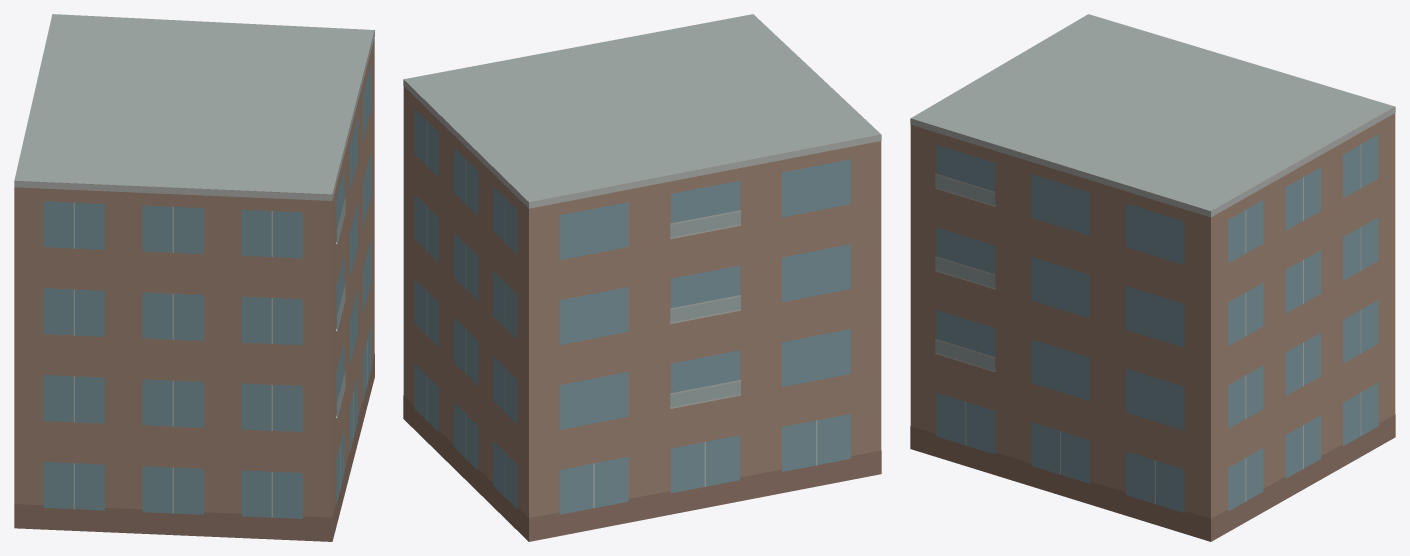
File: survey-upis-32929760.glb
3 renders of one model, left to right at view 1: azimuth 30°, elevation 25°; view 2: azimuth 150°, elevation 25°; view 3: azimuth 270°, elevation 25°, orthographic. The views are drawn at different scales.
Visible parts, largest first — view 1: survey-upis-32929760.tmp; view 2: survey-upis-32929760.tmp; view 3: survey-upis-32929760.tmp.
Part boxes in pixels (x1,y1,x2,y2): survey-upis-32929760.tmp: (14, 14, 374, 541); survey-upis-32929760.tmp: (403, 14, 881, 541); survey-upis-32929760.tmp: (910, 14, 1395, 541).
Size of the model in its own units: 16.38 by 12.8 by 17.02.
